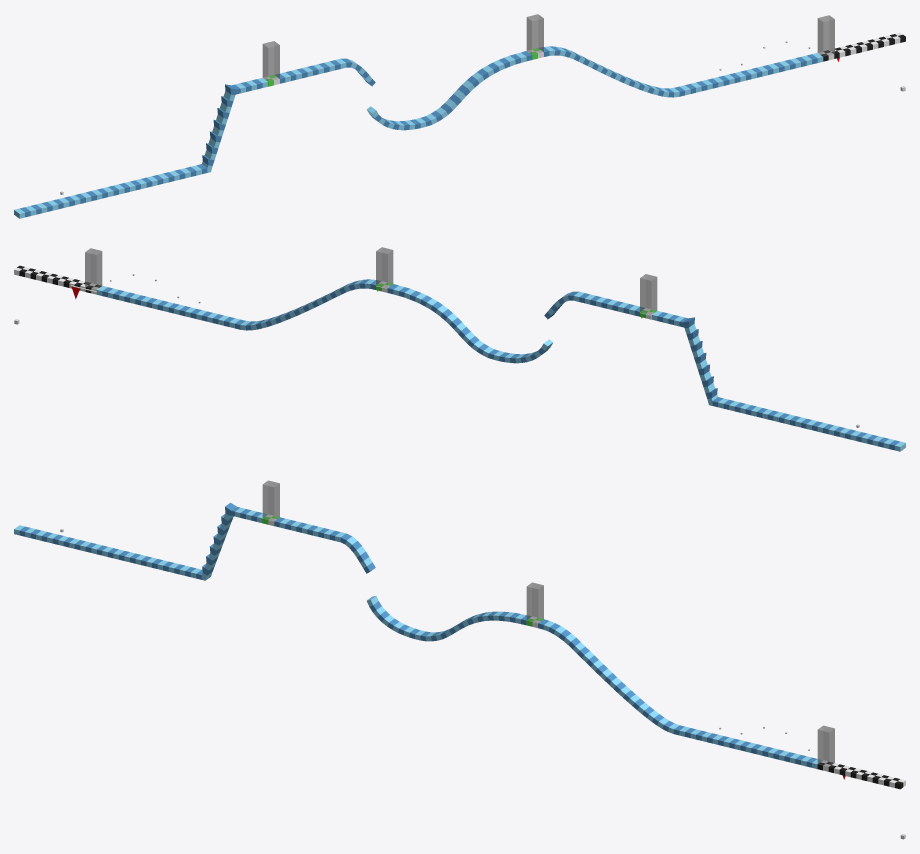
3 renders of one model, top to bottom at view 1: azimuth 30°, elevation 25°; view 2: azimuth 150°, elevation 25°; view 3: azimuth 330°, elevation 25°, orthographic.
Parts seen in each view (by area): view 1: Floor.009, Floor.008, Floor, Floor.004, Finish_Floor, Floor.003, Floor.007, Finish, Checkpoint.001, Checkpoint; view 2: Floor.009, Floor.008, Floor, Floor.004, Finish_Floor, Floor.003, Floor.007, Finish, Checkpoint.001, Checkpoint; view 3: Floor.009, Floor.008, Floor, Finish_Floor, Floor.004, Floor.003, Floor.007.
Part boxes in pixels (left/top/right/bottom): Floor.009: left=539, top=46, right=823, bottom=97; Floor.008: left=366, top=51, right=532, bottom=130; Floor: left=14, top=180, right=140, bottom=218; Floor.004: left=202, top=84, right=237, bottom=167; Finish_Floor: left=818, top=32, right=905, bottom=61; Floor.003: left=136, top=164, right=212, bottom=188; Floor.007: left=275, top=58, right=346, bottom=83; Finish: left=817, top=15, right=834, bottom=56; Checkpoint.001: left=526, top=14, right=543, bottom=54; Checkpoint: left=262, top=41, right=279, bottom=81; Floor.009: left=96, top=279, right=380, bottom=330; Floor.008: left=387, top=284, right=553, bottom=363; Floor: left=779, top=413, right=905, bottom=451; Floor.004: left=682, top=317, right=717, bottom=400; Finish_Floor: left=14, top=265, right=101, bottom=294; Floor.003: left=707, top=397, right=783, bottom=421; Floor.007: left=573, top=291, right=644, bottom=316; Finish: left=85, top=248, right=102, bottom=289; Checkpoint.001: left=376, top=247, right=393, bottom=287; Checkpoint: left=640, top=274, right=657, bottom=314; Floor.009: left=538, top=619, right=822, bottom=768; Floor.008: left=367, top=596, right=531, bottom=641; Floor: left=14, top=525, right=140, bottom=563; Finish_Floor: left=817, top=760, right=905, bottom=789; Floor.004: left=202, top=502, right=236, bottom=576; Floor.003: left=135, top=555, right=212, bottom=580; Floor.007: left=274, top=517, right=345, bottom=542.
Size of what is drawn, in the model's own units: 161 by 34.65 by 1.93.
Materials: 4 (1 with a texture image).
